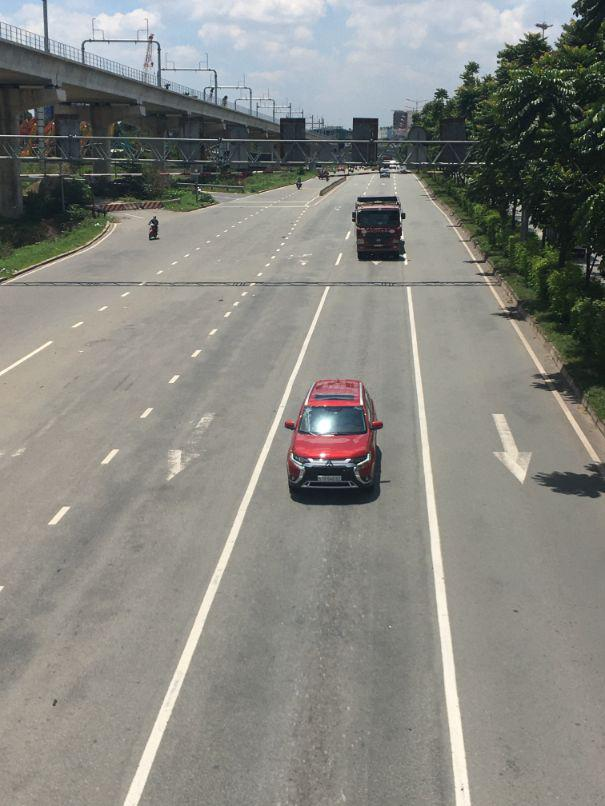car: (288, 377, 388, 501)
motorbike: (147, 214, 160, 239)
truck: (354, 192, 407, 260)
